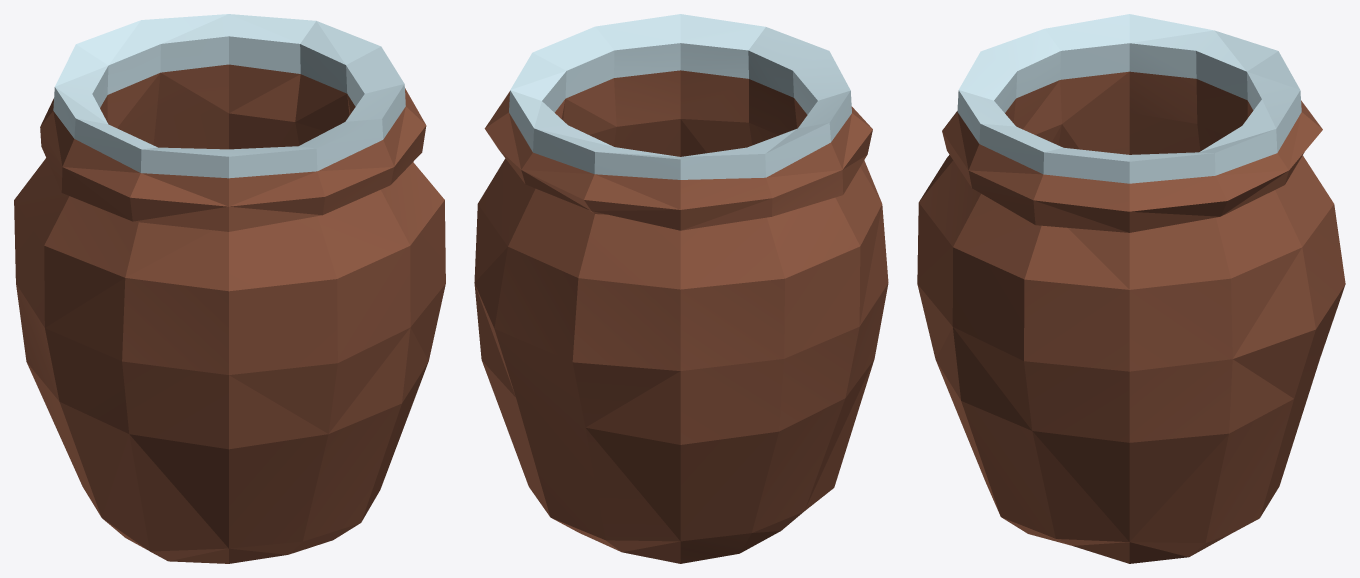
Rendered from Jarron02.glb.
3 views of the same model, side by side, from view 1: azimuth 30°, elevation 25°; view 2: azimuth 150°, elevation 25°; view 3: azimuth 270°, elevation 25° (orthographic). The views are drawn at different scales.
Visible parts, largest first — view 1: SM_Prop_Clay_Pot_02_Snow; view 2: SM_Prop_Clay_Pot_02_Snow; view 3: SM_Prop_Clay_Pot_02_Snow.
Part boxes in pixels (box(x1,y1,x2,y2)): SM_Prop_Clay_Pot_02_Snow: box(14, 14, 445, 563); SM_Prop_Clay_Pot_02_Snow: box(474, 14, 888, 563); SM_Prop_Clay_Pot_02_Snow: box(917, 14, 1345, 563).
Bounding box in the file's own units: 0.5862 × 0.6652 × 0.604.
Materials: 1 (1 with a texture image).
